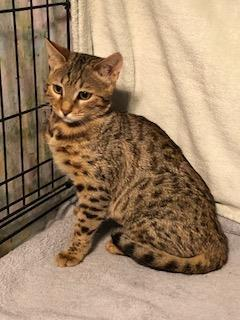bengal: (38, 21, 134, 131)
